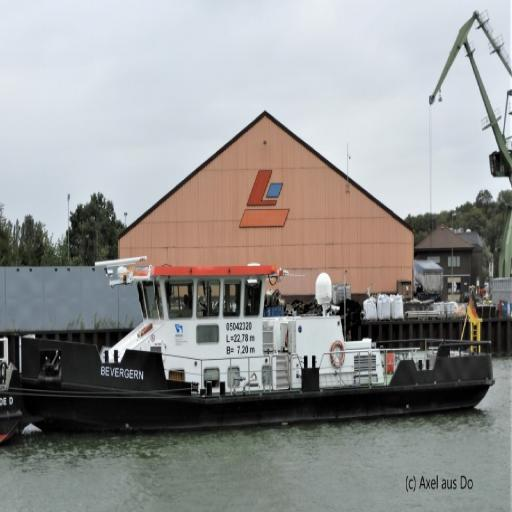tugboat: (14, 244, 500, 441)
